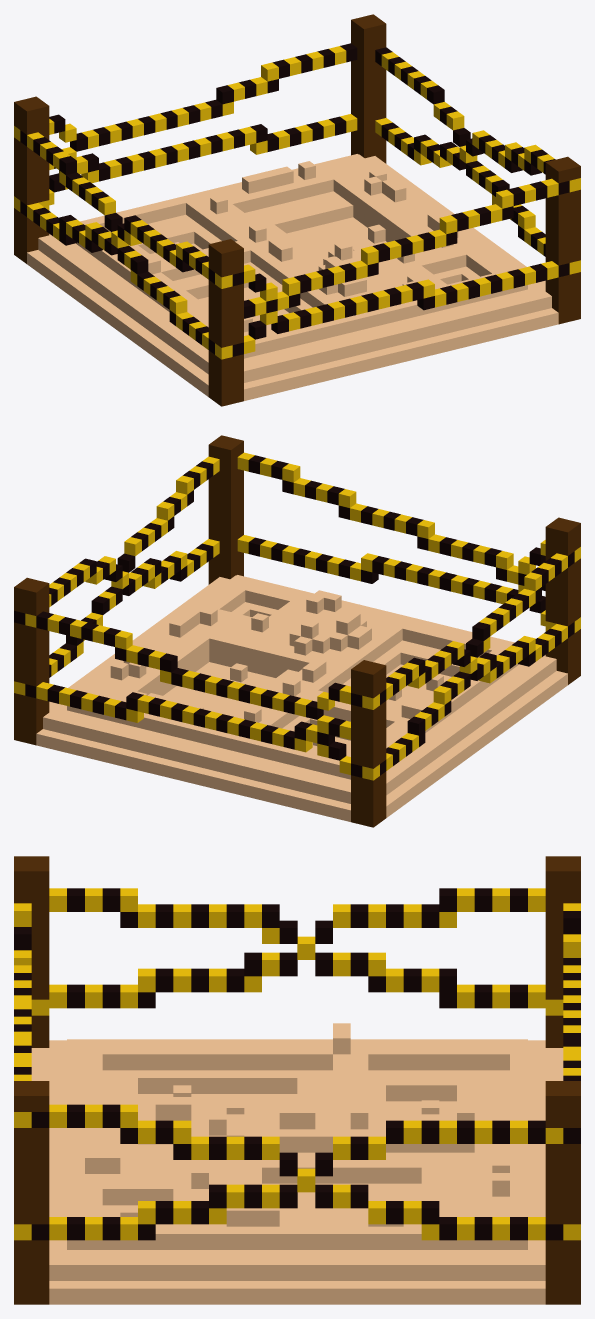
File: constructionSite.obj
3 renders of one model, top to bottom at view 1: azimuth 30°, elevation 25°; view 2: azimuth 150°, elevation 25°; view 3: azimuth 270°, elevation 25°, orthographic. The views are drawn at different scales.
Bounding box in the file's own units: 3.2 × 1.3 × 3.2.
1 material, 1 textured.
